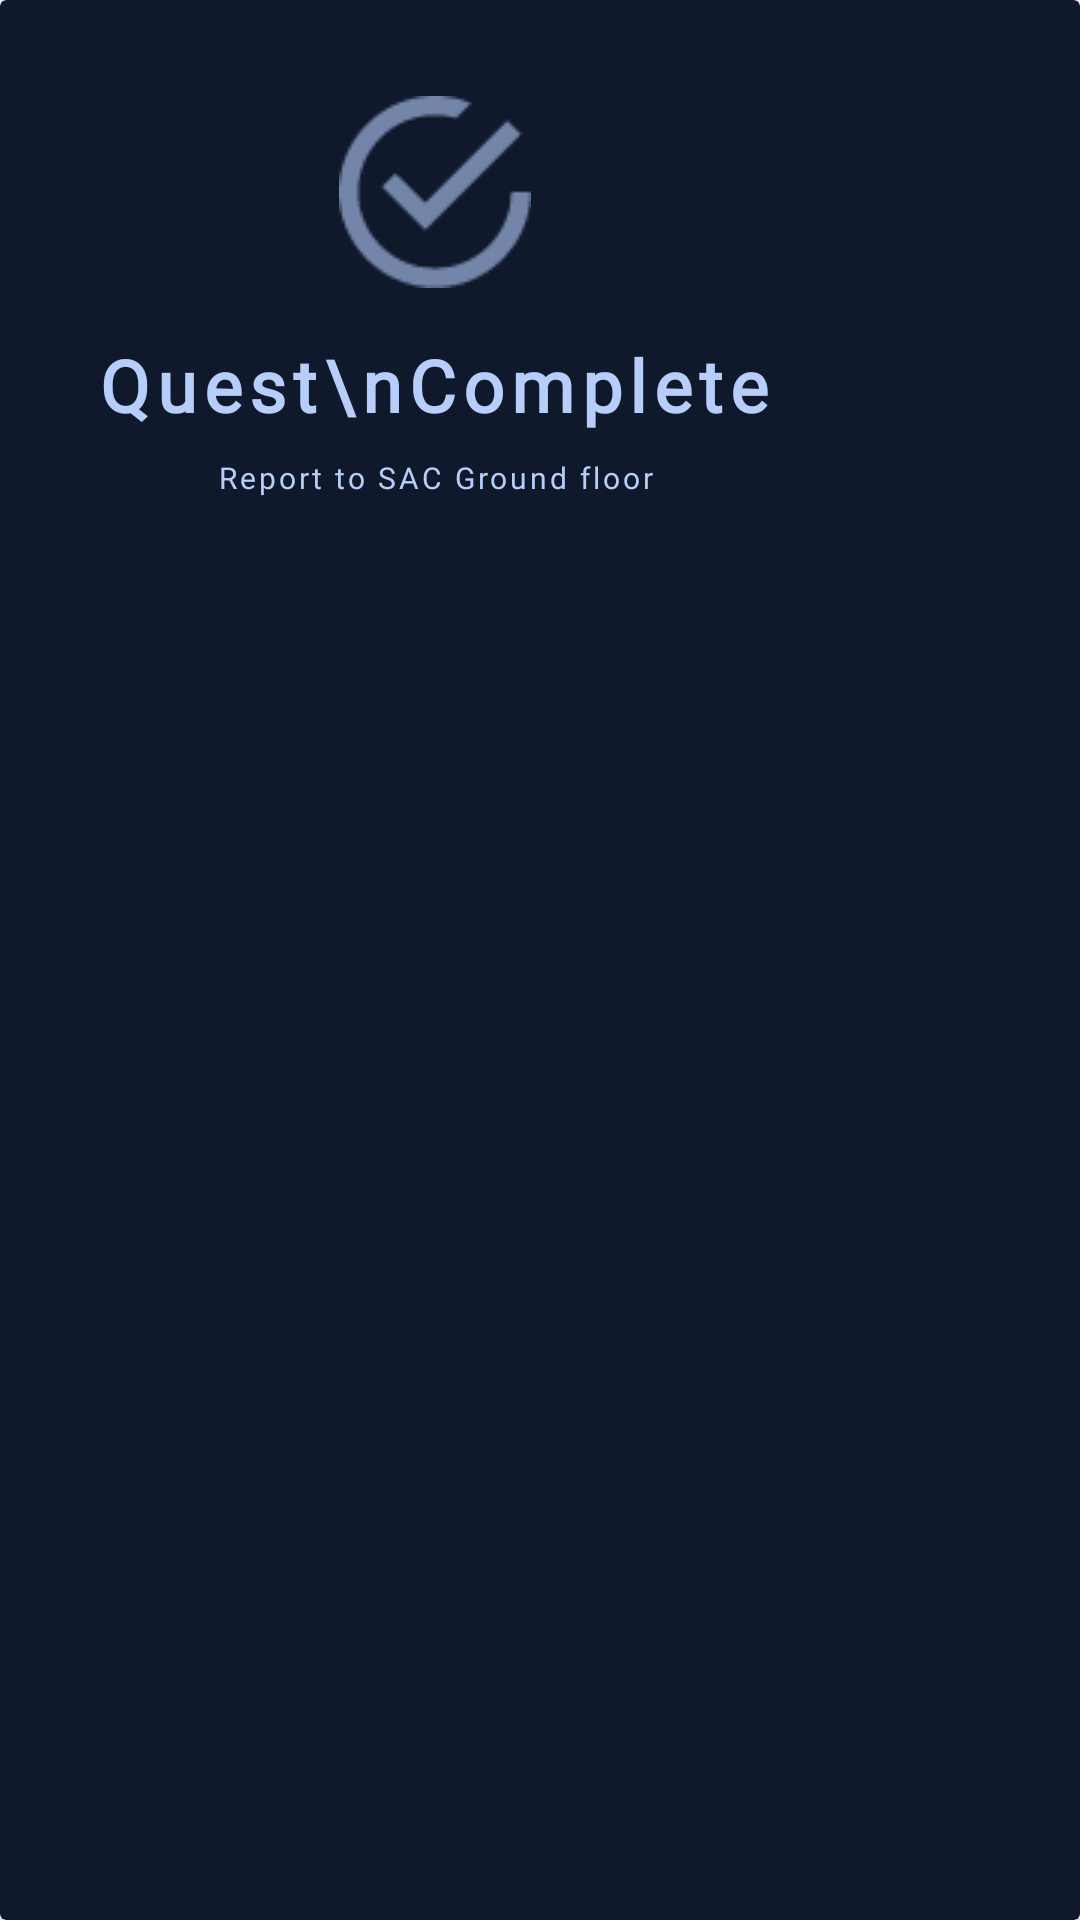

Icon bounding boxes for this 1080w x 1920h phone screenshot, format (left=x1, top=y1, right=x2, bottom=y2):
checked: (left=339, top=96, right=531, bottom=288)
